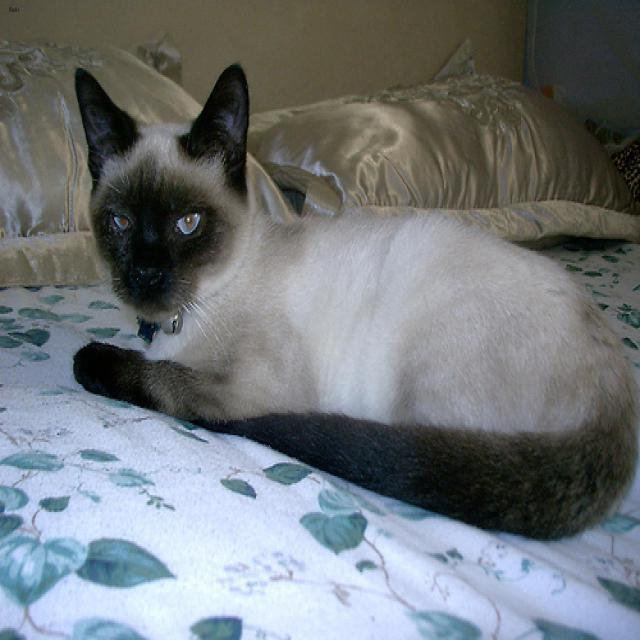Siamese: (71, 60, 255, 320)
